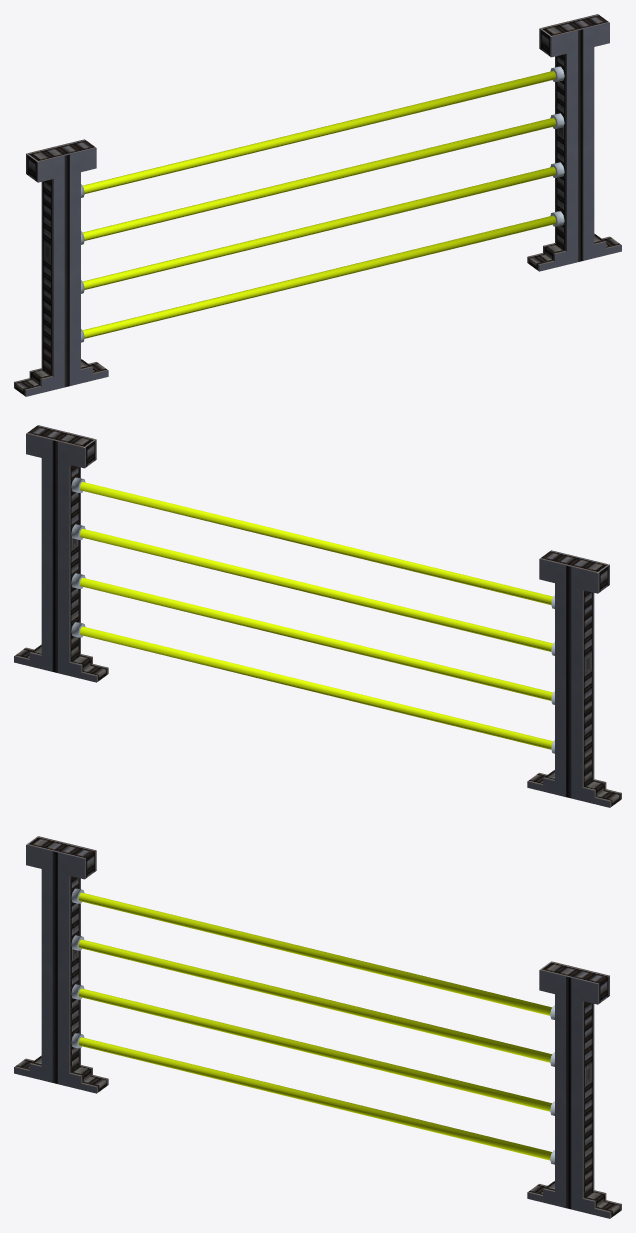
Rendered from scifi_laser.fbx.
The picture shows the model from 3 angles, top to bottom: view 1: azimuth 30°, elevation 25°; view 2: azimuth 150°, elevation 25°; view 3: azimuth 330°, elevation 25°; orthographic projection.
Visible parts, largest first — view 1: scifi_laser; view 2: scifi_laser; view 3: scifi_laser.
Part boxes in pixels (<box>): scifi_laser: <box>14,14,621,396</box>; scifi_laser: <box>14,425,621,807</box>; scifi_laser: <box>14,836,621,1218</box>.
Bounding box in the file's own units: 396 × 147 × 13.77.
Materials: 1 (1 with a texture image).
